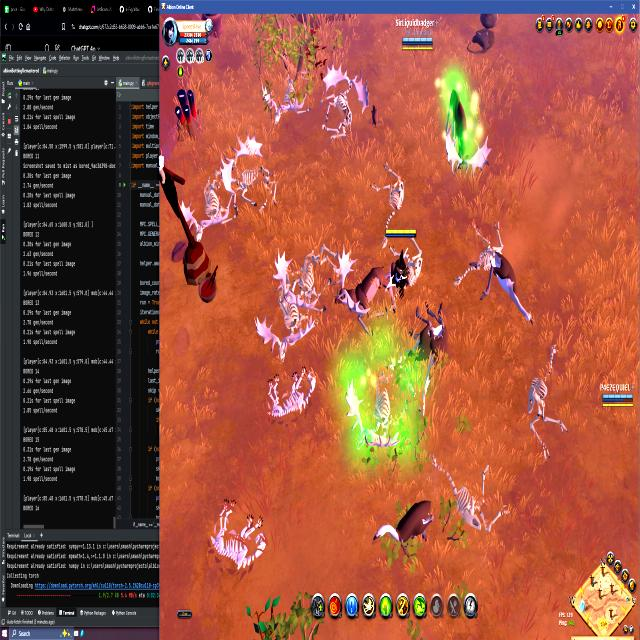mob: (469, 240, 536, 330), (331, 250, 398, 332), (402, 297, 448, 370)
ore: (441, 82, 493, 185), (370, 492, 437, 561)
player: (170, 79, 207, 144)
red: (384, 226, 416, 288), (596, 370, 636, 416), (400, 32, 436, 54)
